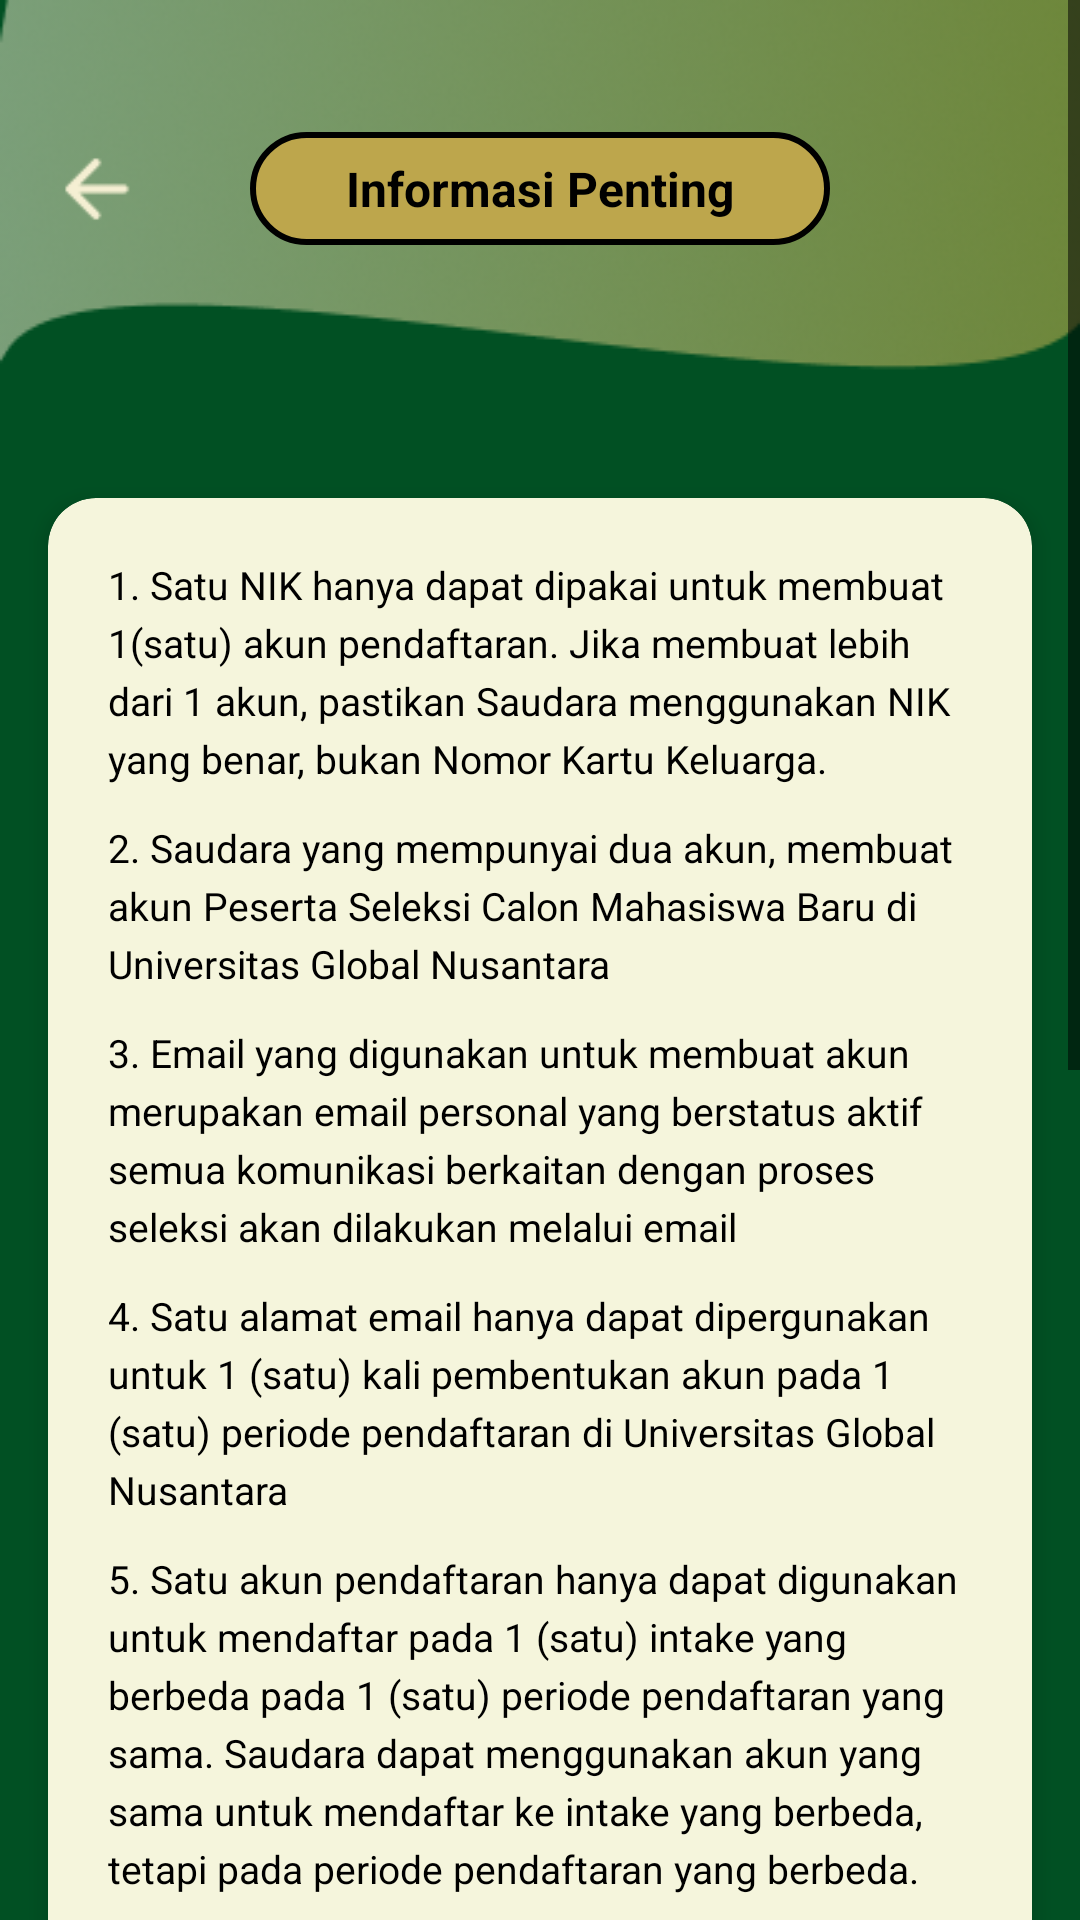

Icon click points for this 1080×1920 phone screenshot, format (x,y):
arrow back rounded: (97,189)
